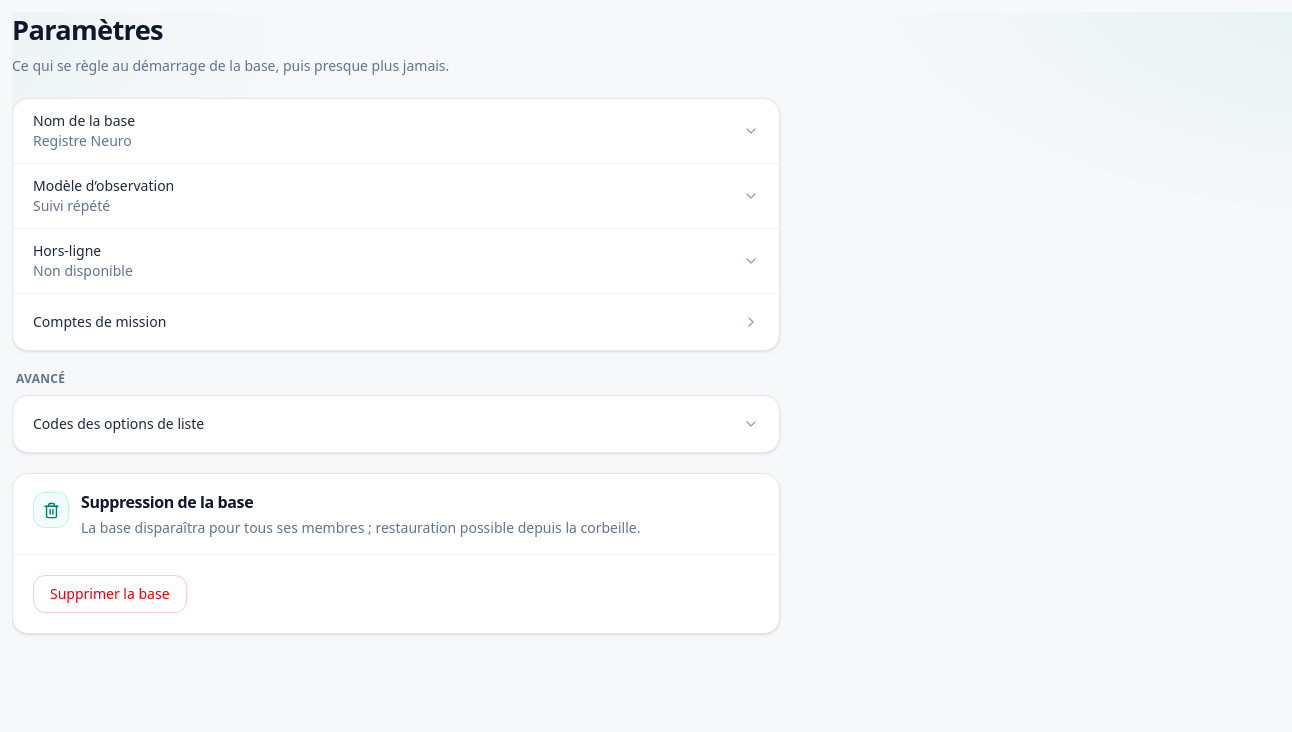
it: BaseSettings › propose la copie hors-ligne et renvoie aux comptes de mission
Expected: the button "Rendre disponible hors-ligne" is not shown
Click the button "Hors-ligne Non disponible" at point(67, 251), box [13, 229, 779, 293]
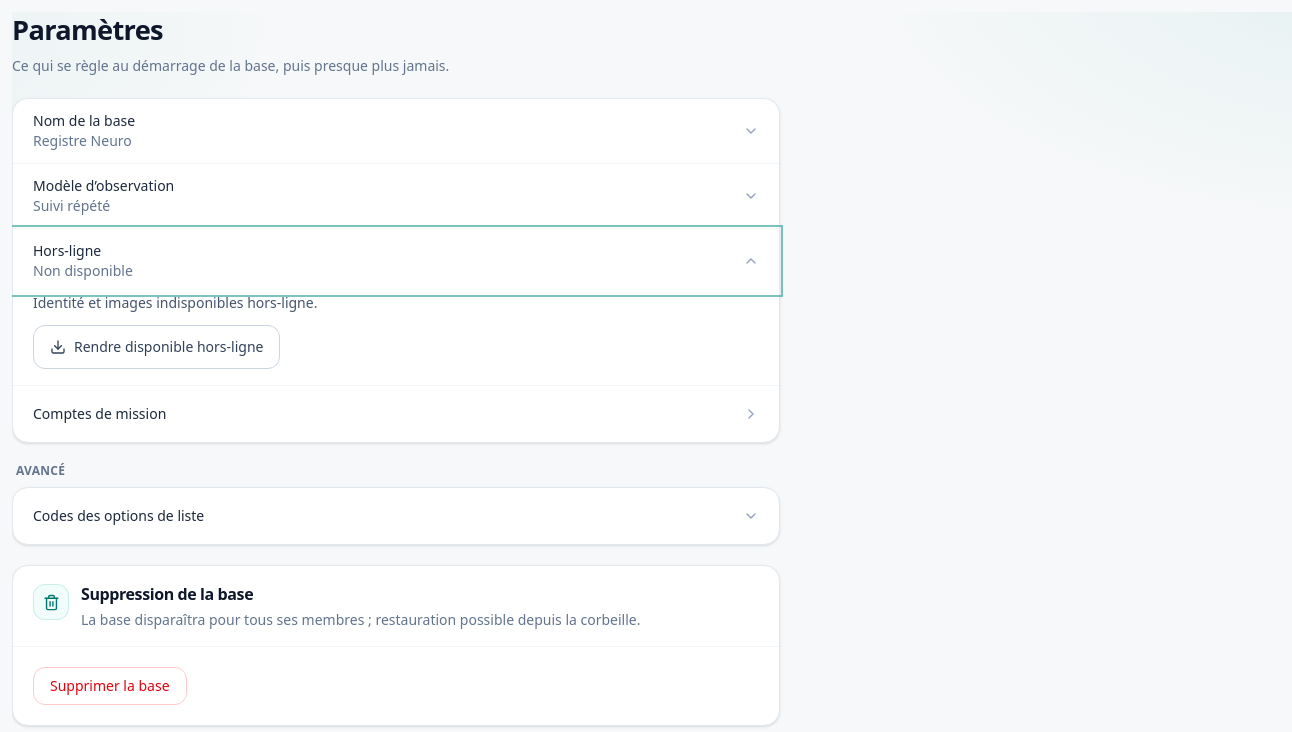
Now the button "Hors-ligne Non disponible" is expanded, box [13, 229, 779, 293]
Now the button "Rendre disponible hors-ligne" is shown, box [33, 325, 280, 369]
Now the text "Identité et images indisponibles hors-ligne." is shown, box [33, 293, 317, 312]
